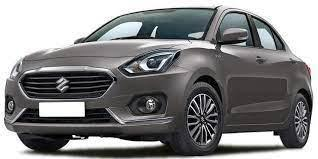Hatchback: (2, 4, 317, 156)
